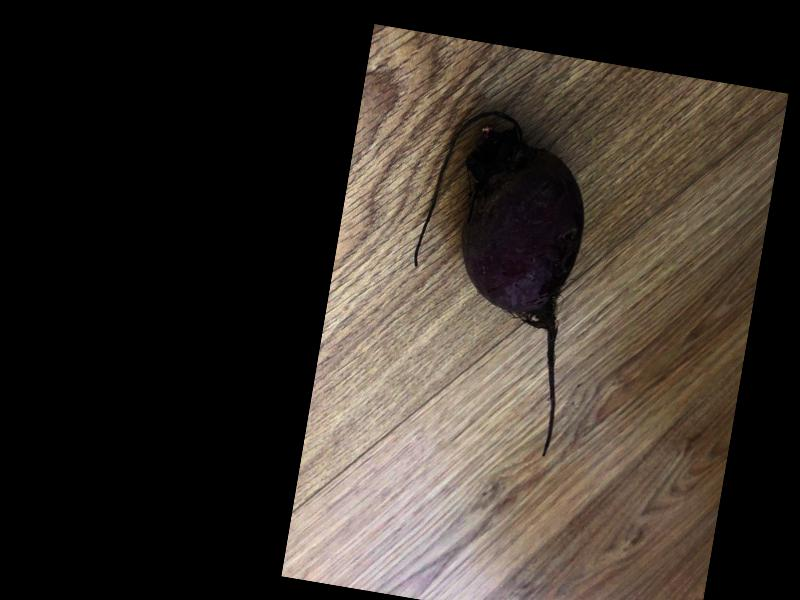Beet: (385, 102, 603, 457)
